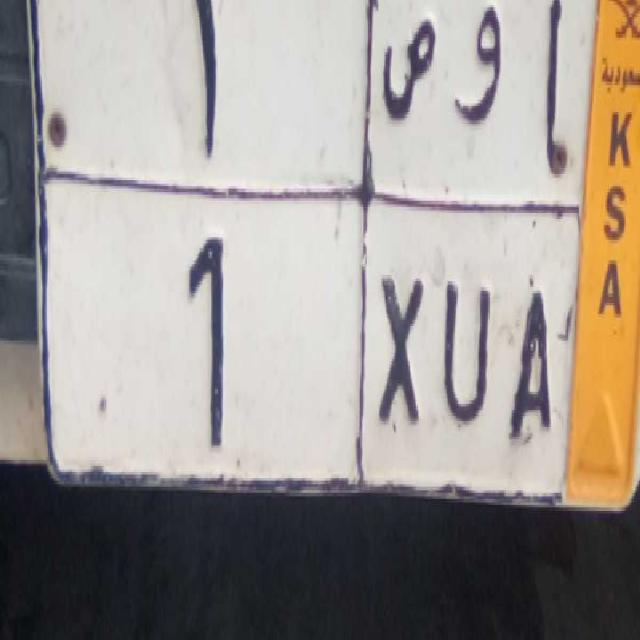license_plate: (41, 166, 572, 509)
